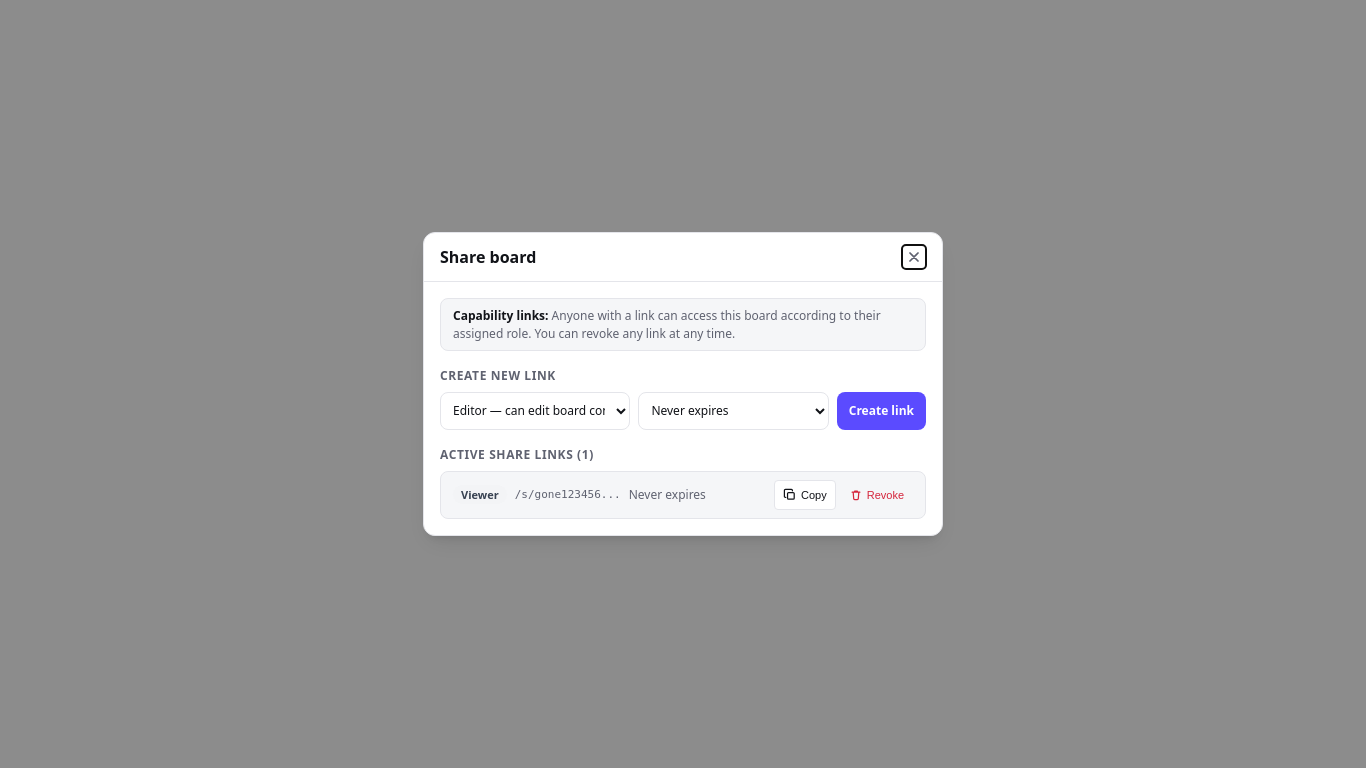
it: ShareModal with a sync server › removes the link once revoking succeeds
Click the button with test id "revoke-link-gone1234567": (876, 495) [840,480,913,510]
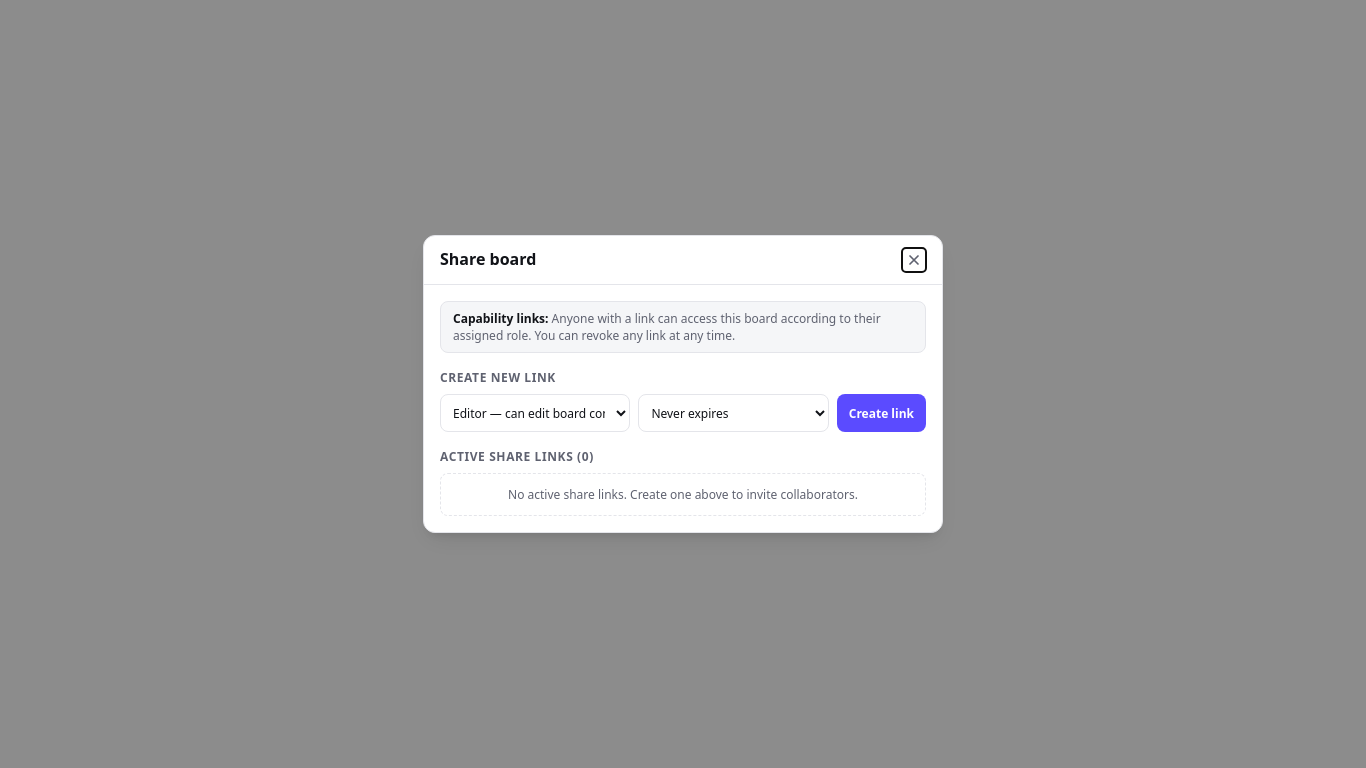
Expected: the element with test id "share-link-item-gone1234567" is gone
